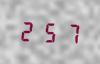five: (39, 19, 58, 44)
seven: (59, 20, 78, 45)
two: (18, 18, 37, 43)
